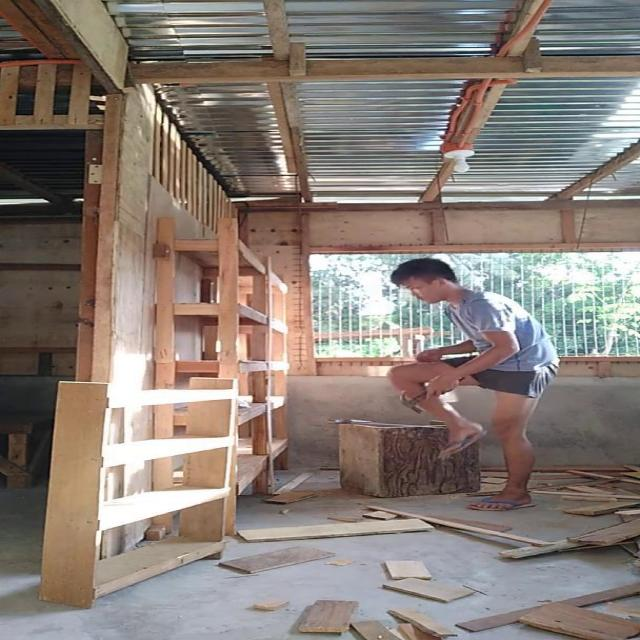hammer: (400, 376, 468, 414)
